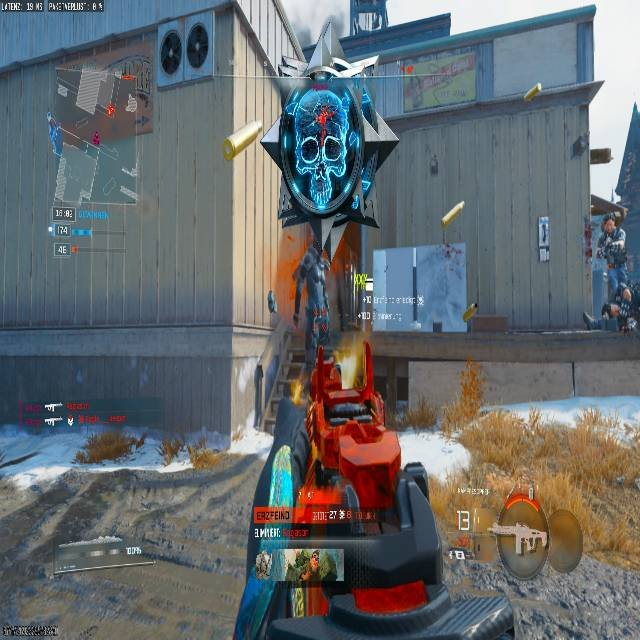head: (602, 216, 616, 234)
player: (242, 9, 390, 232), (596, 210, 634, 329)
